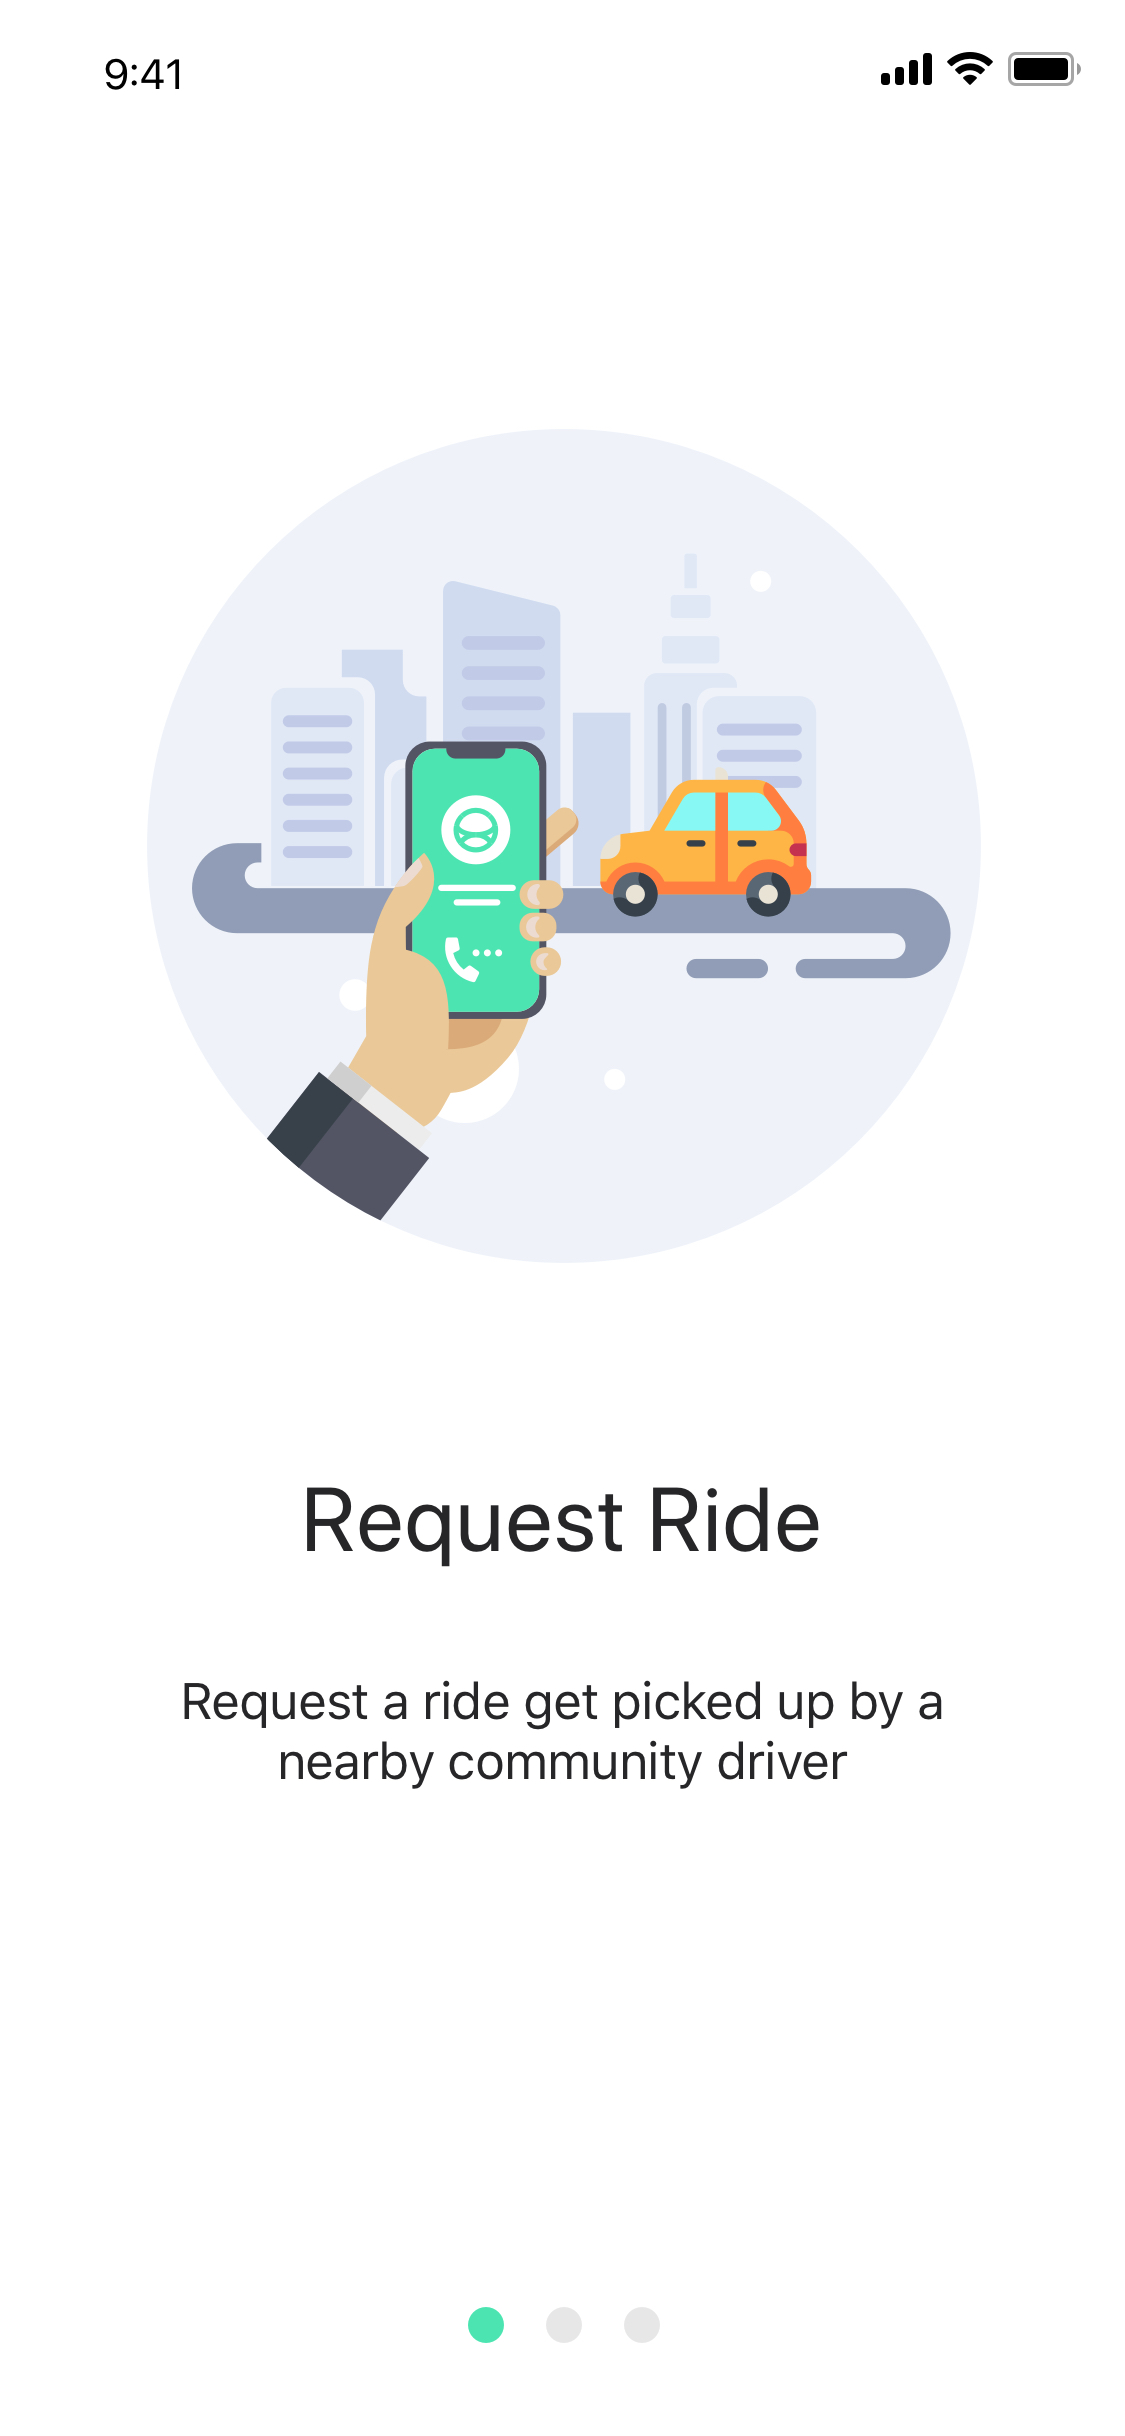Image: (145, 427, 982, 1265)
PageIndicator: (468, 2305, 662, 2344)
Text: (179, 1678, 946, 1791), (305, 1484, 824, 1572)
UpperTaskBar: (106, 51, 1083, 92)
